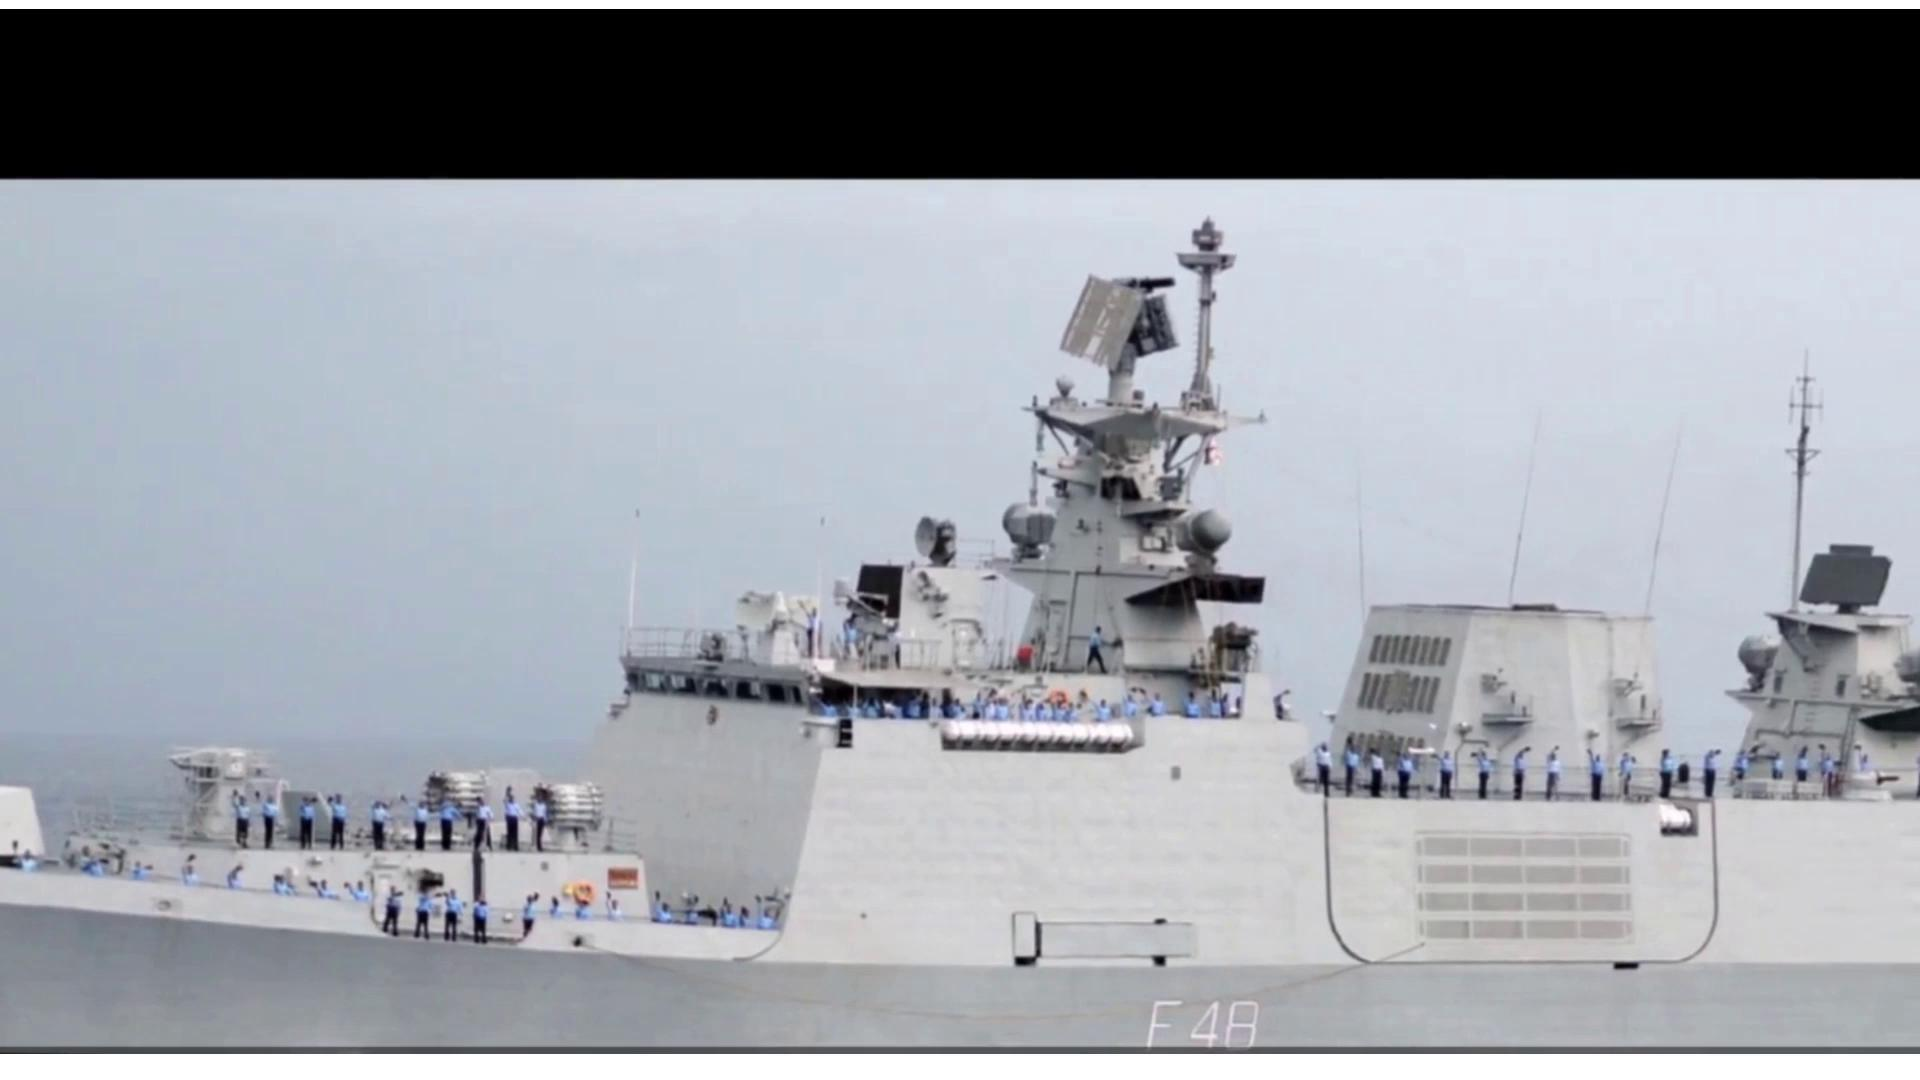OCR: (1116, 986, 1273, 1048)
